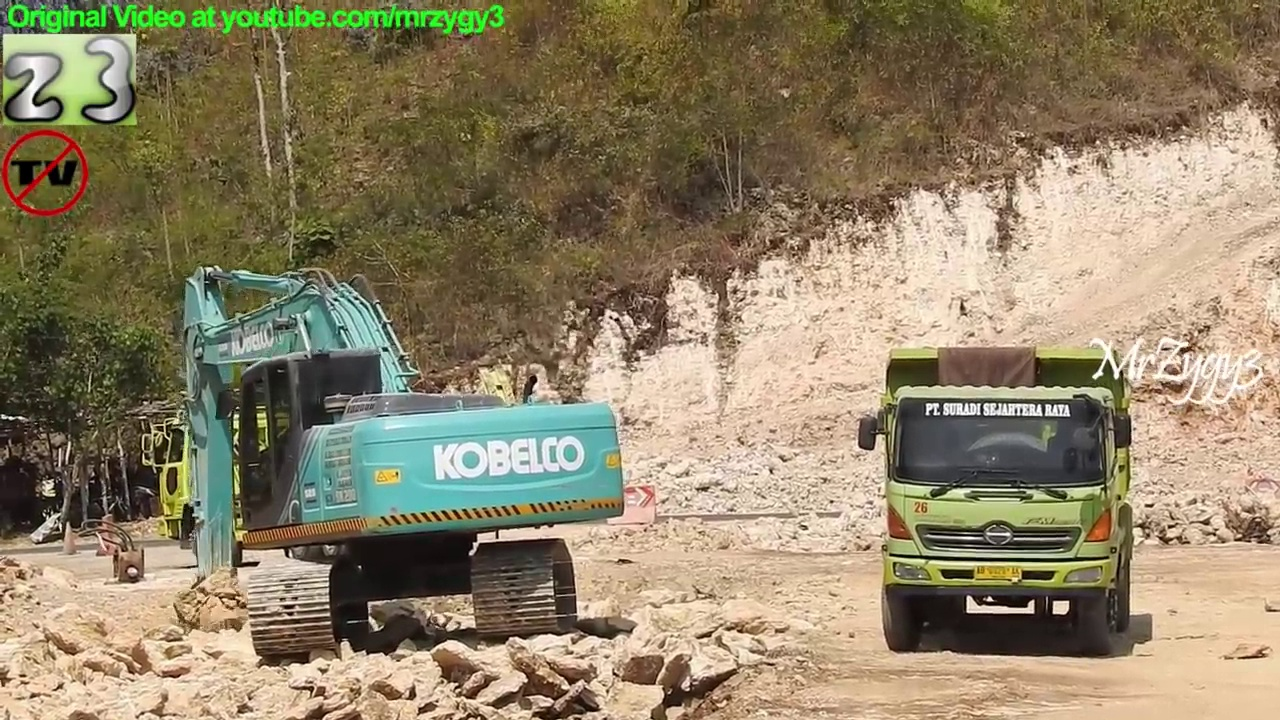excavator: (174, 258, 631, 665)
truck: (855, 343, 1140, 661), (126, 378, 553, 571)
